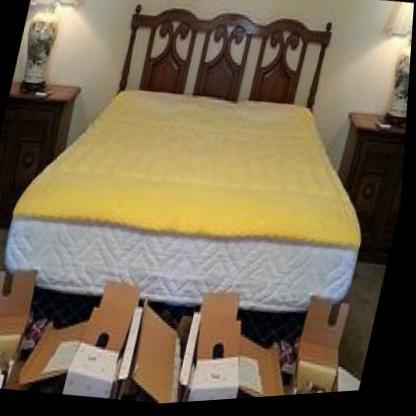Bed: (0, 0, 416, 371)
